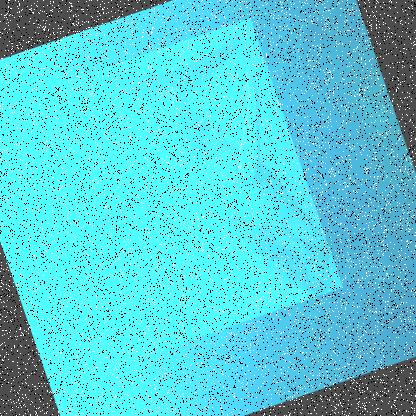white-shark: (16, 17, 344, 368)
